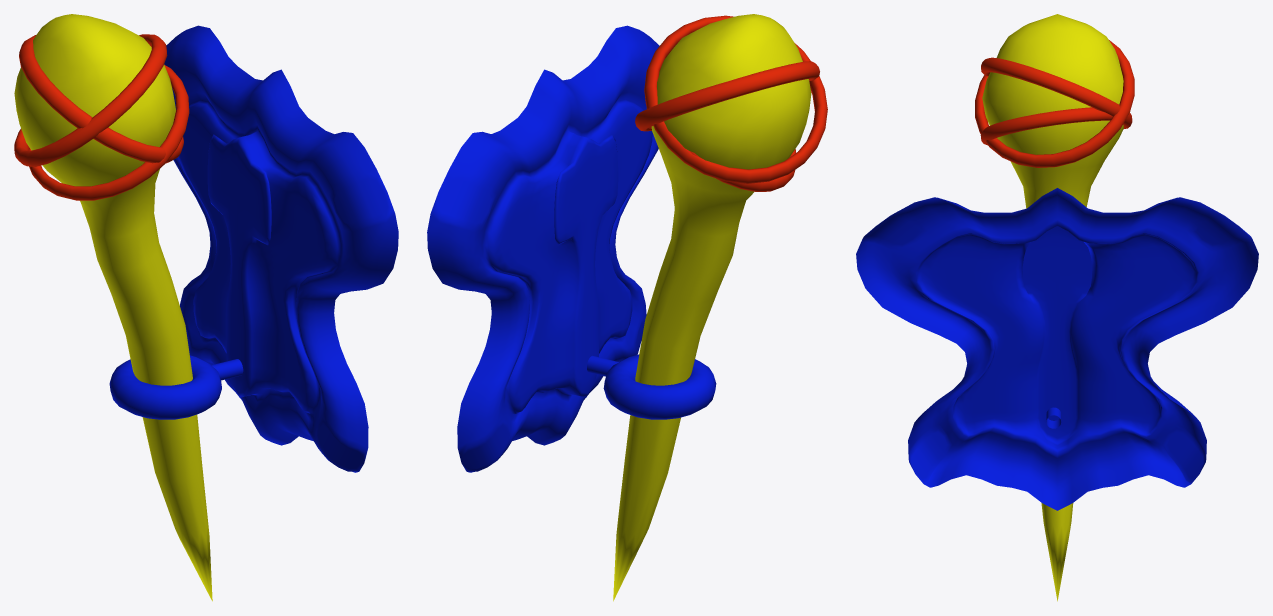
Rendered from Torch_lp.fbx.
The picture shows the model from 3 angles, left to right: view 1: azimuth 30°, elevation 25°; view 2: azimuth 150°, elevation 25°; view 3: azimuth 270°, elevation 25°; orthographic projection. The views are drawn at different scales.
Parts seen in each view (by area): view 1: Torch_lp; view 2: Torch_lp; view 3: Torch_lp.
Boxes of the visible parts, left/top/right/bottom form: Torch_lp: left=14, top=14, right=398, bottom=601; Torch_lp: left=427, top=14, right=827, bottom=601; Torch_lp: left=856, top=14, right=1258, bottom=601.
Bounding box in the file's own units: 0.3168 × 0.7081 × 0.4885.
